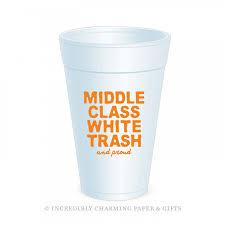Plastic cup: (54, 18, 181, 205)
